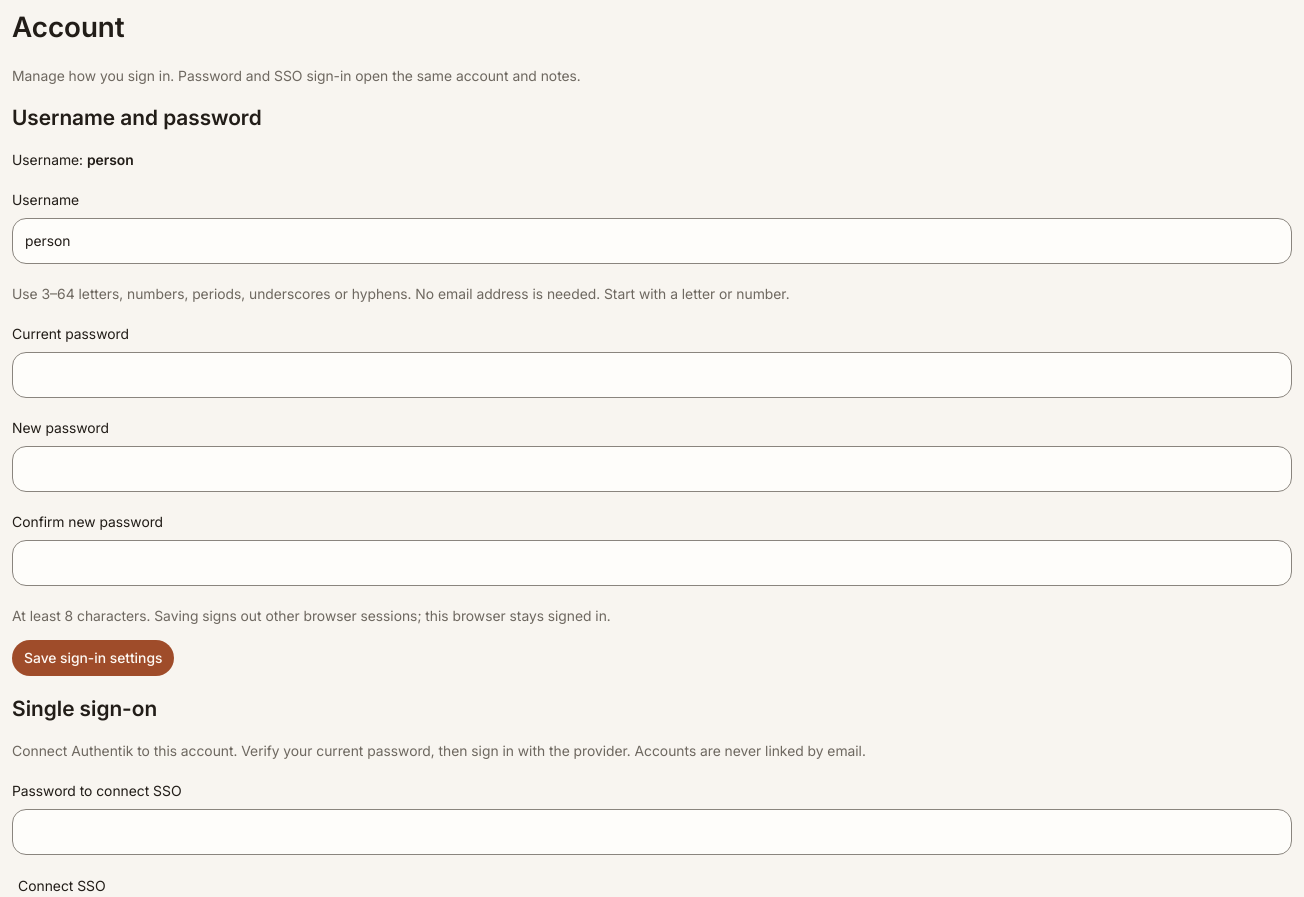
Scenario: requires password verification before explicitly linking optional SSO
The width and height of the screenshot is (1304, 897).
(page scrolled)
Click the button "Connect SSO".
click(62, 886)  # box [12, 875, 112, 896]
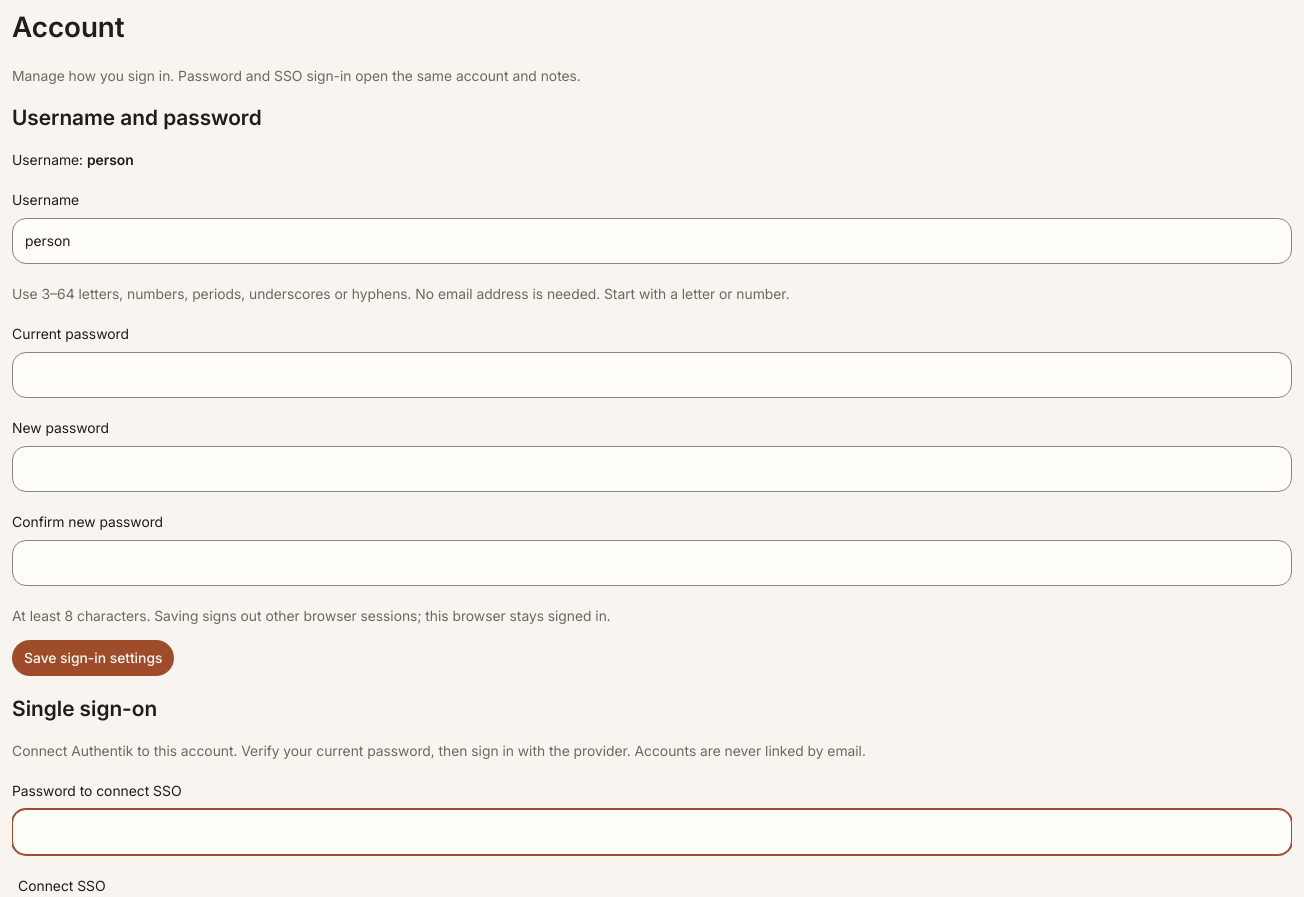
Type "typed current password" into the password field labelled "Password to connect SSO".
click(652, 832); type("typed current password")  # box [12, 809, 1292, 855]
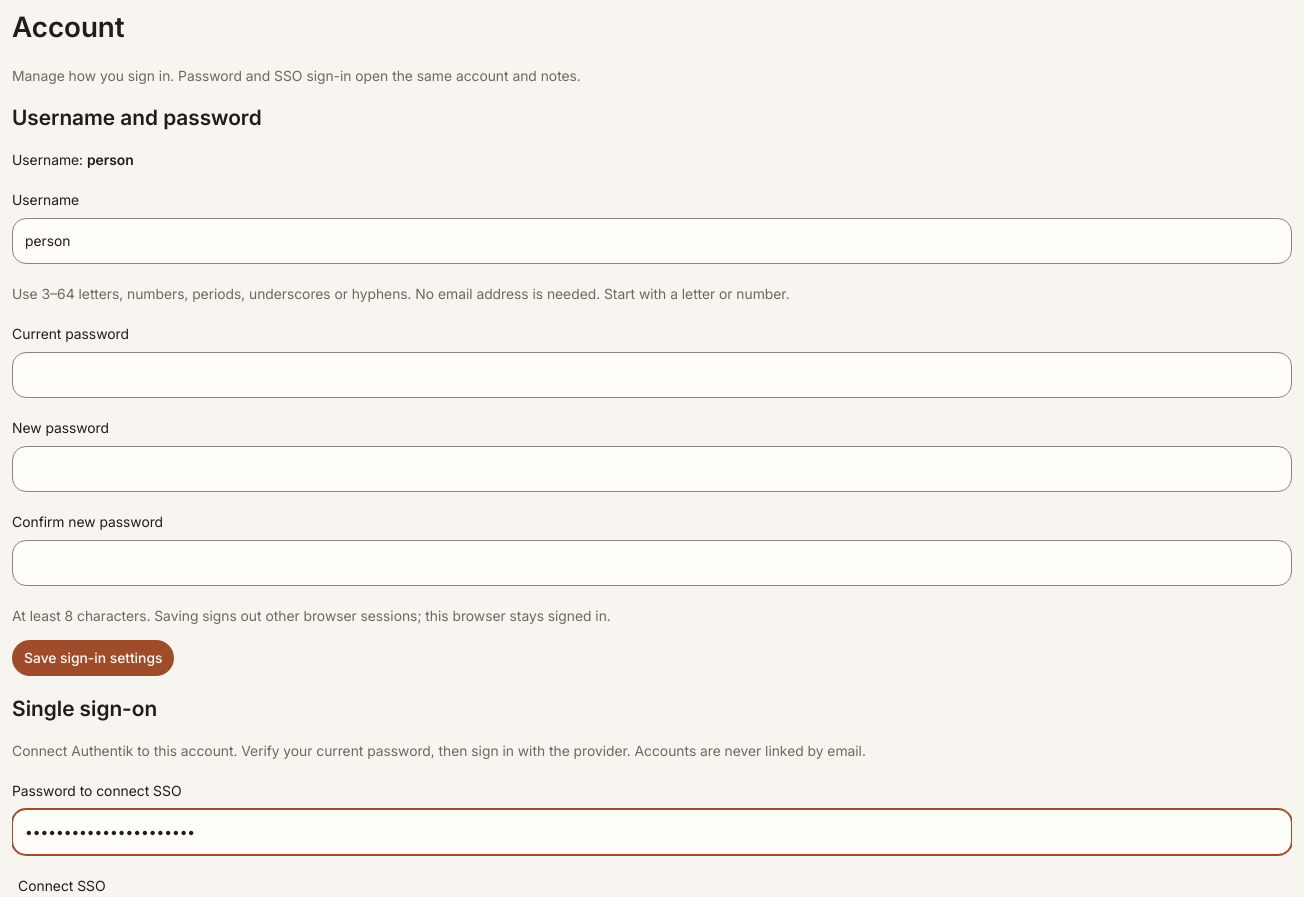
Click the button "Connect SSO".
click(62, 886)  # box [12, 875, 112, 896]
(page scrolled)
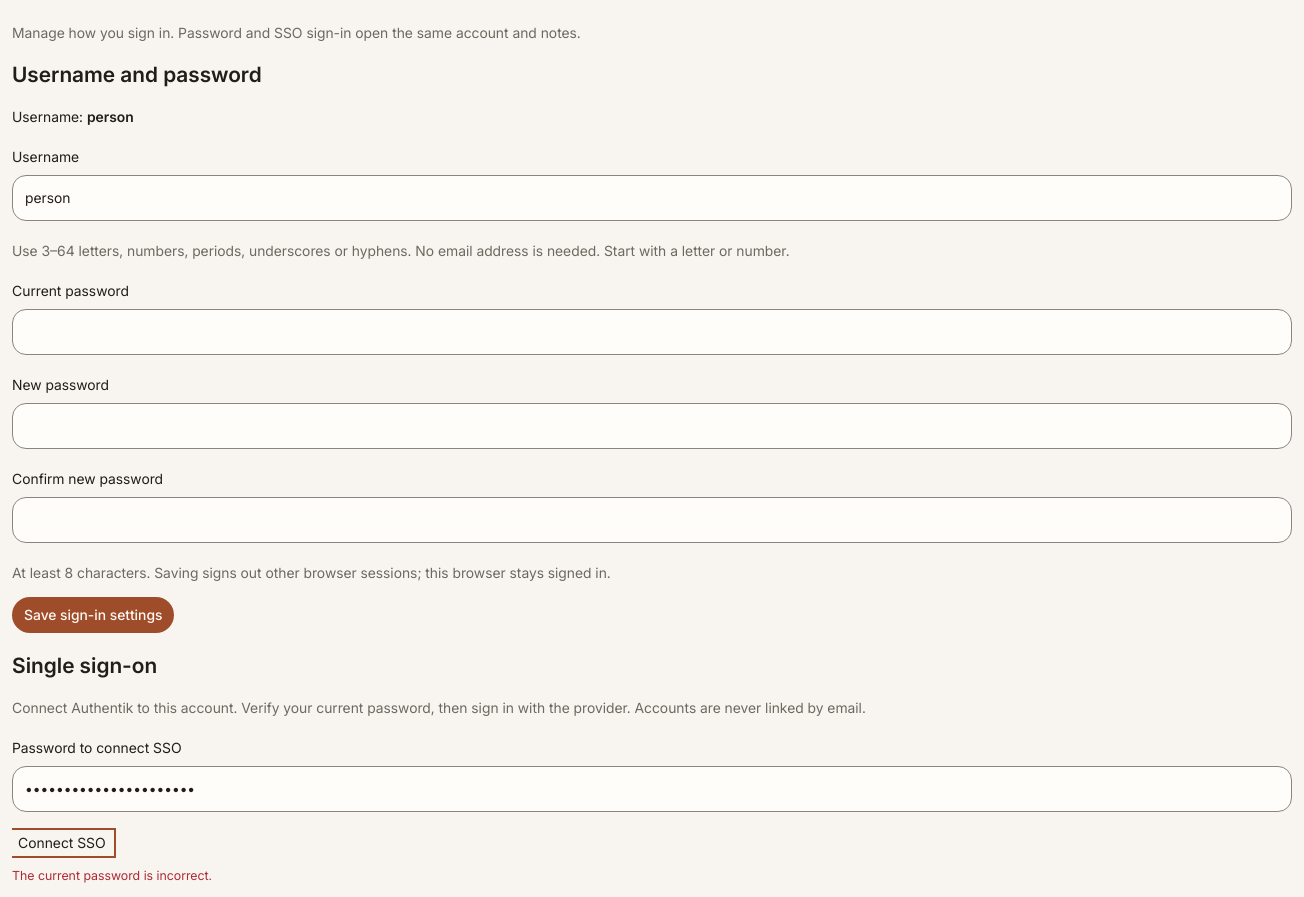
Now the message reads "The current password is incorrect.", box [12, 868, 212, 883]
